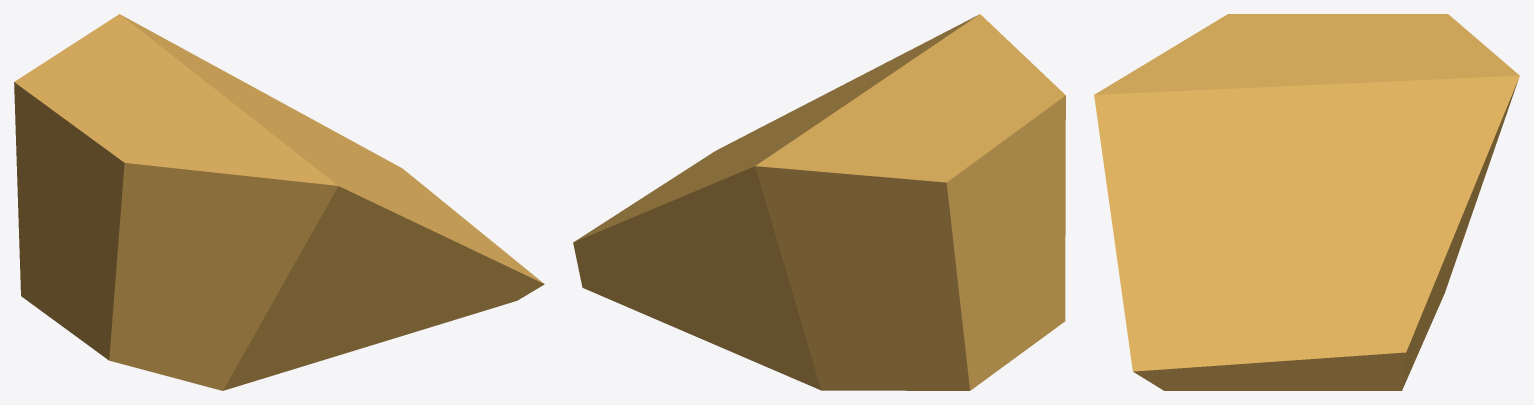
The model's file is gold_nugget_2.fbx.
3 renders of one model, left to right at view 1: azimuth 30°, elevation 25°; view 2: azimuth 150°, elevation 25°; view 3: azimuth 270°, elevation 25°, orthographic. The views are drawn at different scales.
Visible parts, largest first — view 1: pCube63; view 2: pCube63; view 3: pCube63.
Boxes of the visible parts, <box> form: pCube63: <box>14,14,544,390</box>; pCube63: <box>573,14,1065,390</box>; pCube63: <box>1094,14,1519,390</box>.
Size of the model in its own units: 1.66 by 0.9615 by 1.62.
